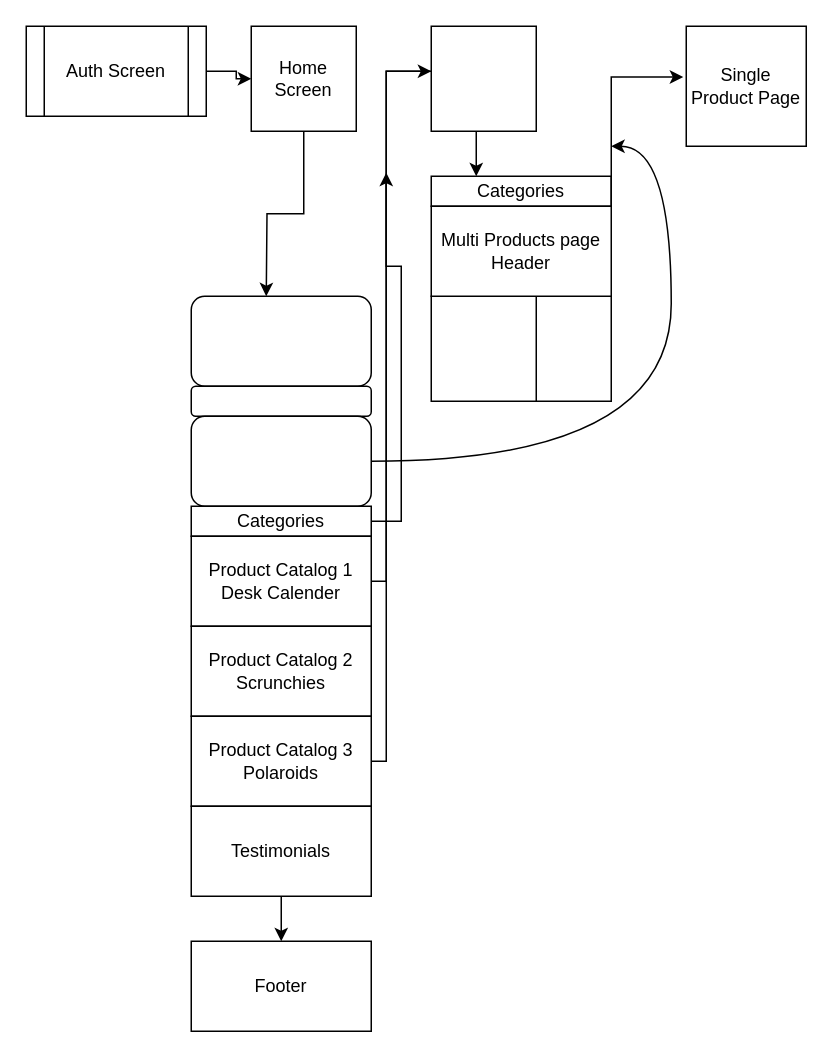
The diagram is 833 pixels wide and 1058 high, and some of its shapes have lost their labels. The shapes that lost their labels are listed below. From the top down, each one's box as (x1, y1, x2, y2) in pixels, then its label:
(430, 25, 536, 131): Products Page
(190, 295, 371, 386): Brand Ads
(430, 295, 536, 401): 2X4 Products
(190, 385, 371, 416): Tag
(190, 415, 371, 506): Best Seller/Deals
